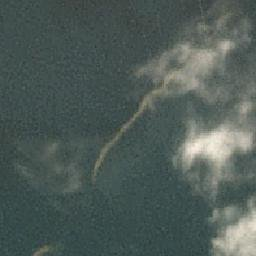cloud: (177, 111, 256, 180), (200, 190, 256, 253)
debris: (105, 126, 120, 151), (91, 149, 104, 175), (123, 110, 139, 128)
